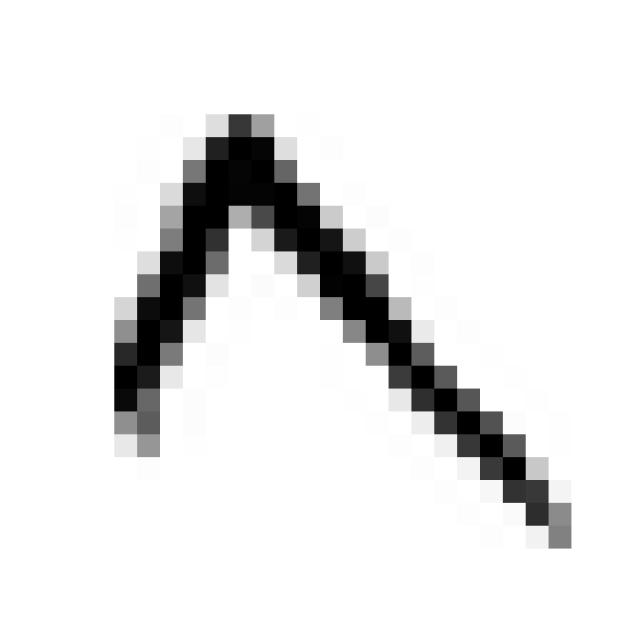8 -eight-: (82, 91, 594, 581)
